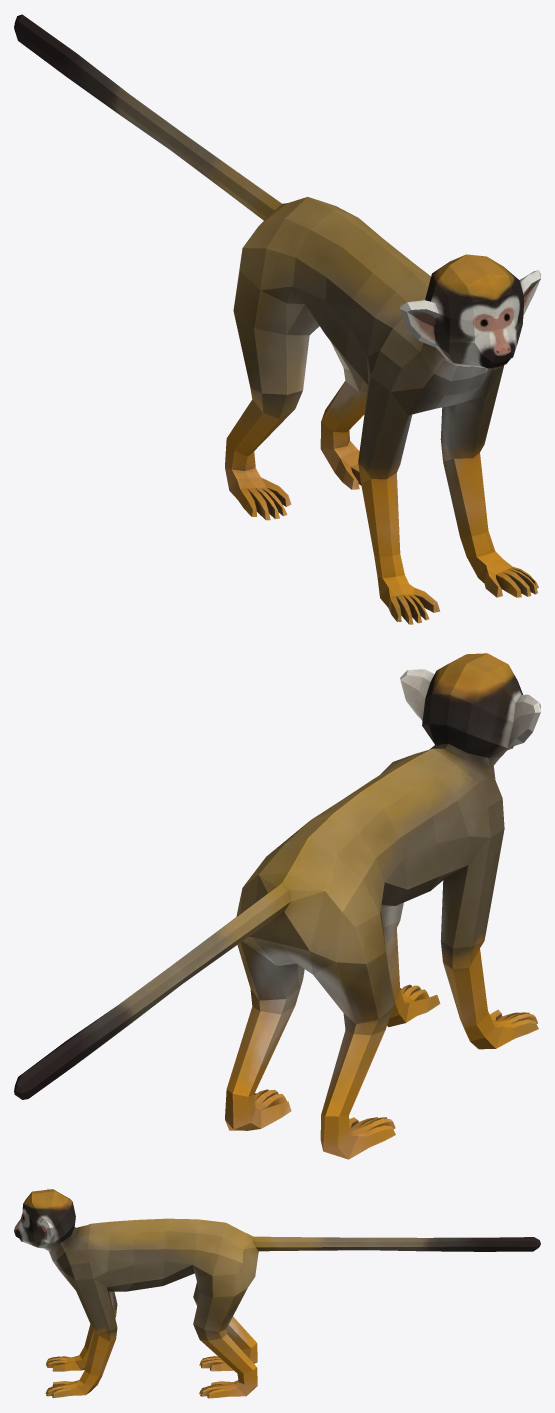
Rendered from 8J_6QDW6au1.glb.
3 renders of one model, top to bottom at view 1: azimuth 30°, elevation 25°; view 2: azimuth 150°, elevation 25°; view 3: azimuth 270°, elevation 25°, orthographic. The views are drawn at different scales.
Visible parts, largest first — view 1: SquirrelMonkey_Mesh; view 2: SquirrelMonkey_Mesh; view 3: SquirrelMonkey_Mesh.
Part boxes in pixels (bbox=[...]): SquirrelMonkey_Mesh: bbox=[14, 14, 540, 624]; SquirrelMonkey_Mesh: bbox=[14, 653, 540, 1159]; SquirrelMonkey_Mesh: bbox=[14, 1188, 540, 1398].
Bounding box in the file's own units: 0.4295 × 1 × 2.52.
Materials: 1 (1 with a texture image).
